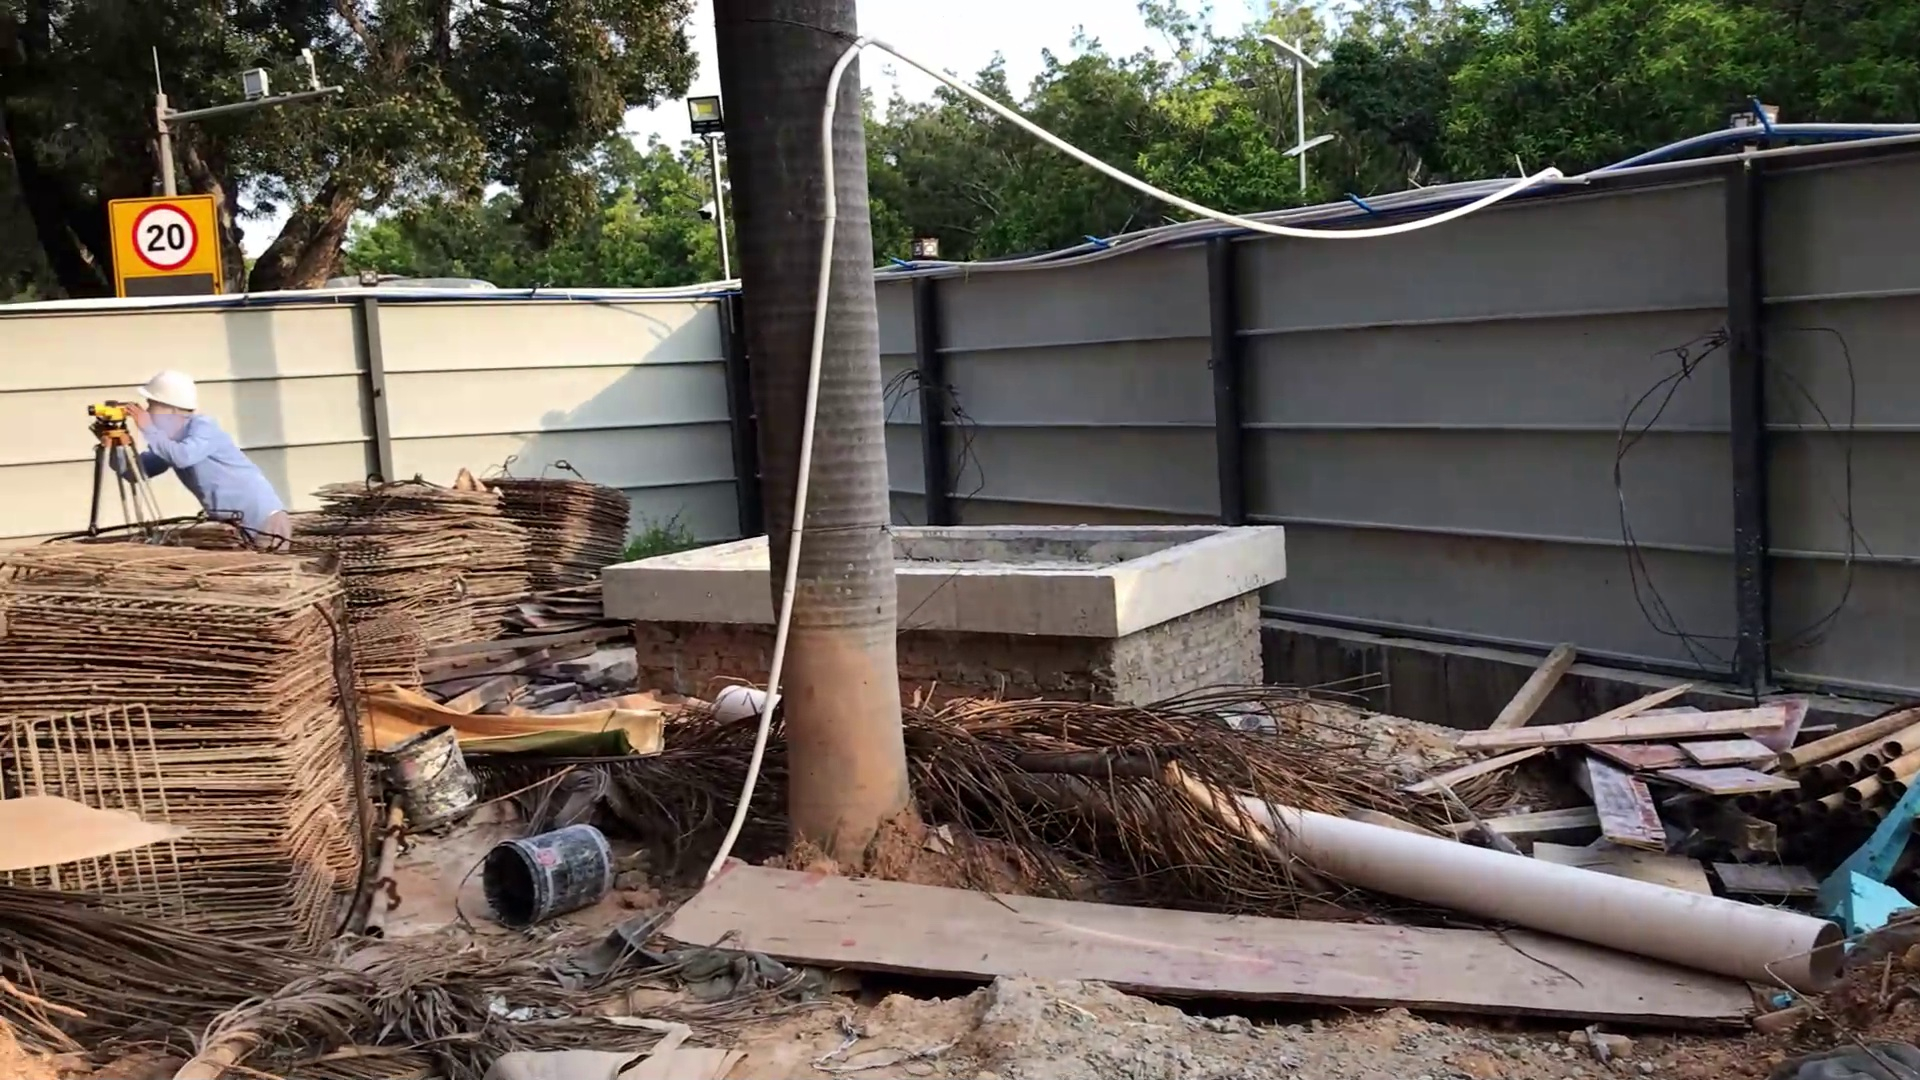helmet: (138, 366, 201, 423)
person: (95, 366, 293, 554)
slogan: (113, 196, 218, 280)
